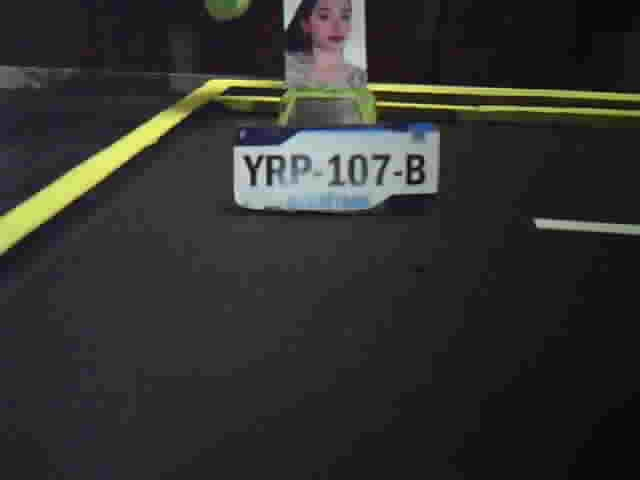PLACA: (230, 121, 442, 218)
ROSTRO: (284, 1, 367, 91)
